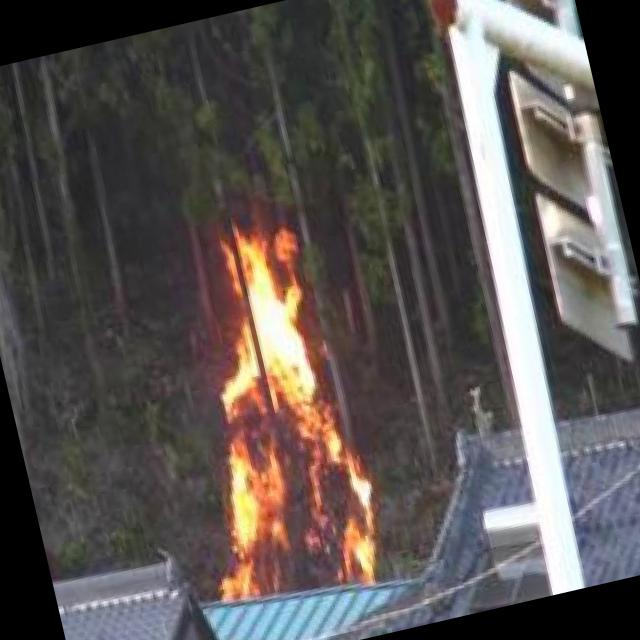Fire: (118, 184, 393, 622)
